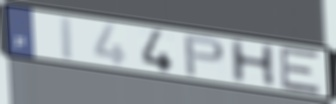4: (91, 21, 129, 69), (140, 28, 176, 74)
E: (279, 45, 323, 96)
H: (227, 38, 279, 88)
I: (58, 14, 77, 63)
P: (182, 34, 227, 79)
